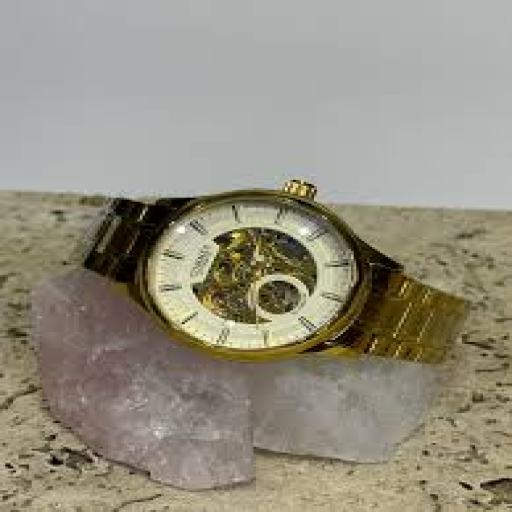KolSaati: (49, 137, 501, 436)
